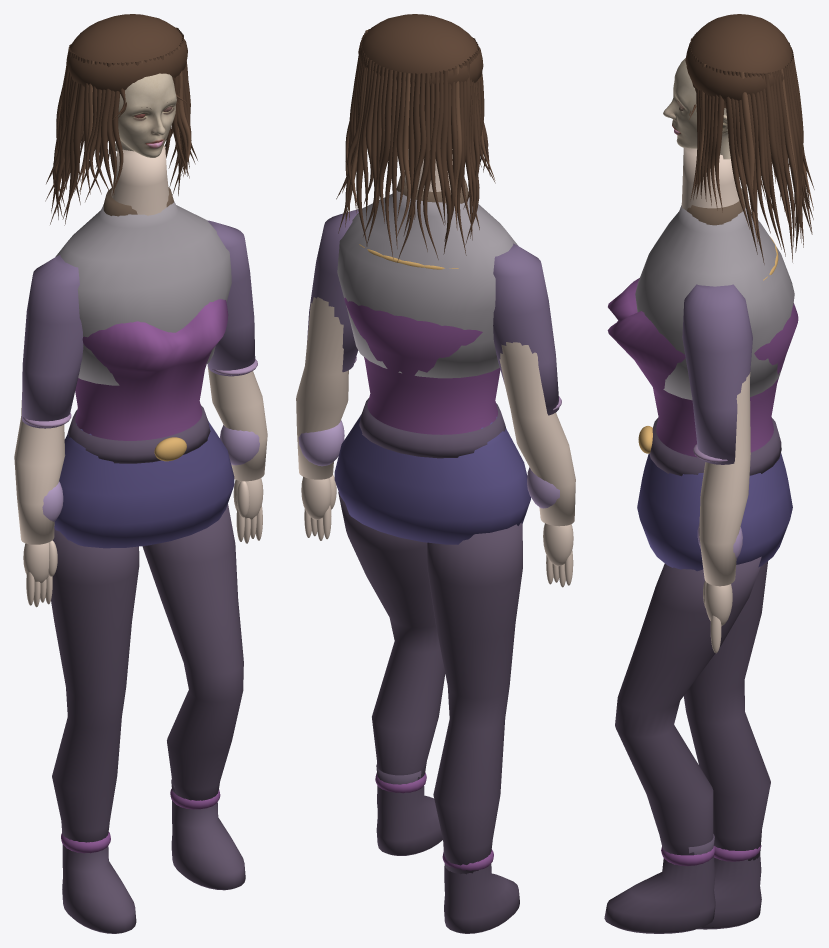
The model's file is katie_walk_7.glb.
3 views of the same model, side by side, from view 1: azimuth 30°, elevation 25°; view 2: azimuth 150°, elevation 25°; view 3: azimuth 270°, elevation 25° (orthographic). The views are drawn at different scales.
Parts seen in each view (by area): view 1: Continuous trouser leg, Continuous trouser leg.001, Katie linen underlayer, Fitted hip panel, Violet sweetheart bodice, Katie smooth sleeve, Katie hair locks, Katie hair crown, Fitted boot.001, Fitted boot, Continuous arm, Katie smooth sleeve.001 (+12 smaller); view 2: Continuous trouser leg, Katie linen underlayer, Katie hair locks, Fitted hip panel, Continuous trouser leg.001, Violet sweetheart bodice, Continuous arm, Katie smooth sleeve, Katie hair crown, Continuous arm.001, Fitted boot.001, Fitted boot (+7 smaller); view 3: Continuous trouser leg.001, Katie linen underlayer, Continuous trouser leg, Katie hair locks, Katie smooth sleeve.001, Fitted hip panel, Violet sweetheart bodice, Katie hair crown, Fitted boot.001, Continuous arm.001, Fitted boot, Waist belt (+7 smaller).
Boxes of the visible parts, <box> form: Continuous trouser leg: <box>51,528,139,842</box>; Continuous trouser leg.001: <box>142,504,243,800</box>; Katie linen underlayer: <box>55,201,231,385</box>; Fitted hip panel: <box>54,421,234,548</box>; Violet sweetheart bodice: <box>75,299,228,440</box>; Katie smooth sleeve: <box>21,254,83,428</box>; Katie hair locks: <box>45,29,197,225</box>; Katie hair crown: <box>66,14,187,93</box>; Fitted boot.001: <box>171,779,245,890</box>; Fitted boot: <box>62,844,136,933</box>; Continuous arm: <box>14,392,65,544</box>; Katie smooth sleeve.001: <box>207,220,255,376</box>; Continuous trouser leg: <box>427,523,522,874</box>; Katie linen underlayer: <box>337,190,518,378</box>; Katie hair locks: <box>336,29,495,262</box>; Fitted hip panel: <box>334,414,530,544</box>; Continuous trouser leg.001: <box>338,492,445,779</box>; Violet sweetheart bodice: <box>344,297,500,434</box>; Continuous arm: <box>499,342,575,526</box>; Katie smooth sleeve: <box>493,243,559,415</box>; Katie hair crown: <box>358,14,483,86</box>; Continuous arm.001: <box>296,297,348,479</box>; Fitted boot.001: <box>376,764,442,855</box>; Fitted boot: <box>444,864,519,933</box>; Continuous trouser leg.001: <box>615,556,761,855</box>; Katie linen underlayer: <box>635,205,794,400</box>; Continuous trouser leg: <box>683,561,770,860</box>; Katie hair locks: <box>689,32,814,264</box>; Katie smooth sleeve.001: <box>682,284,752,464</box>; Fitted hip panel: <box>637,453,792,571</box>; Violet sweetheart bodice: <box>607,278,798,457</box>; Katie hair crown: <box>685,14,792,108</box>; Fitted boot.001: <box>604,834,715,933</box>; Continuous arm.001: <box>699,372,750,586</box>; Fitted boot: <box>697,854,761,929</box>; Waist belt: <box>649,417,781,476</box>.
Bounding box in the file's own units: 0.6866 × 2.23 × 0.4641.
15 materials, 2 textured.
